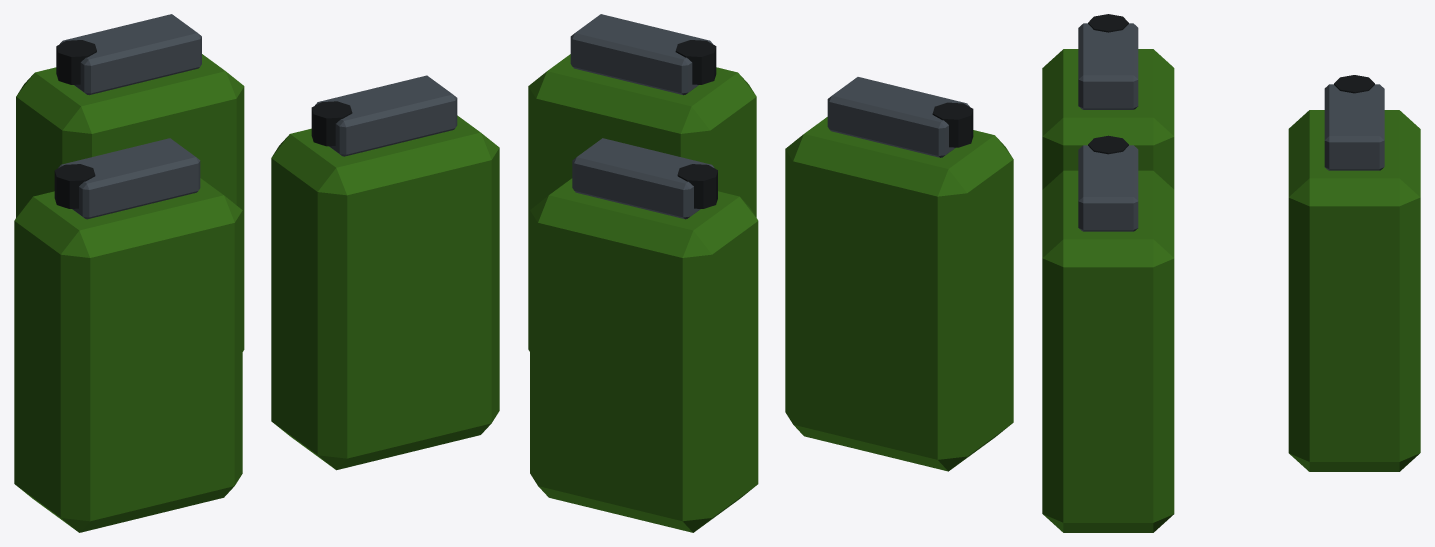
Rendered from CanisterCluster.fbx.
3 renders of one model, left to right at view 1: azimuth 30°, elevation 25°; view 2: azimuth 150°, elevation 25°; view 3: azimuth 270°, elevation 25°, orthographic. The views are drawn at different scales.
Parts seen in each view (by area): view 1: CanisterCluster; view 2: CanisterCluster; view 3: CanisterCluster.
Part boxes in pixels (x1,y1,x2,y2): CanisterCluster: (14, 14, 499, 532); CanisterCluster: (528, 14, 1013, 532); CanisterCluster: (1042, 14, 1420, 532).
Bounding box in the file's own units: 82 × 60.5 × 63.
1 material, 1 textured.
